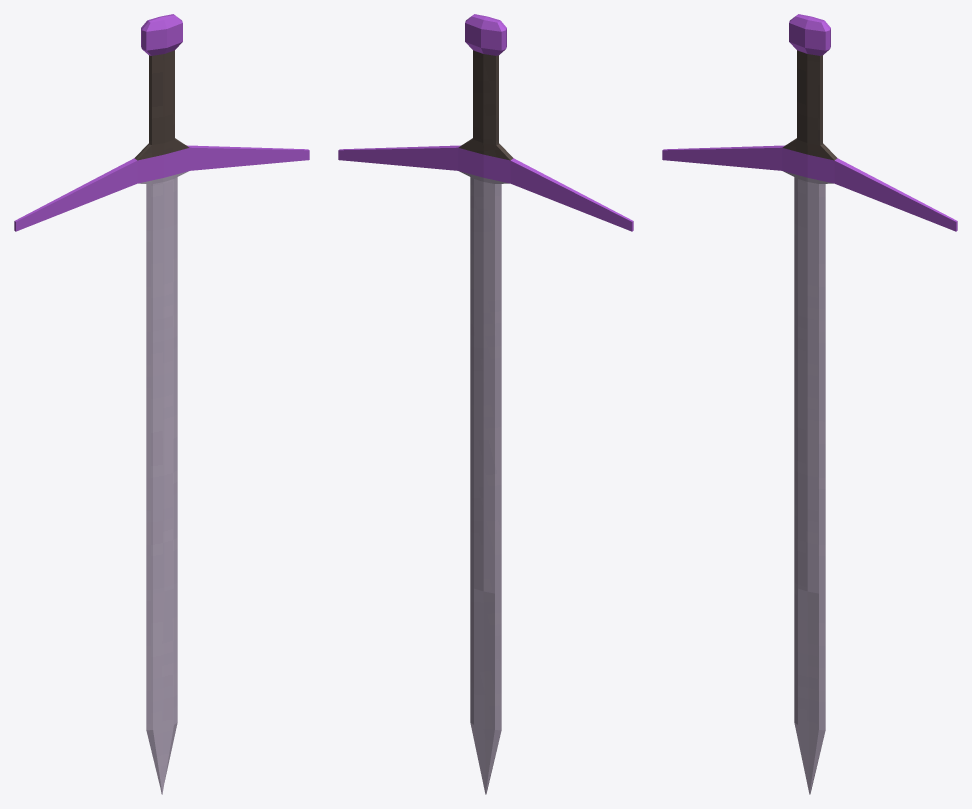
File: sword.obj
3 views of the same model, side by side, from view 1: azimuth 30°, elevation 25°; view 2: azimuth 150°, elevation 25°; view 3: azimuth 330°, elevation 25° (orthographic).
Visible parts, largest first — view 1: Cube_blade, Cube_trim, Cube_handle; view 2: Cube_blade, Cube_trim, Cube_handle; view 3: Cube_blade, Cube_trim, Cube_handle.
Boxes of the visible parts, x1=… form: Cube_blade: x1=138, y1=171, x2=188, y2=794; Cube_trim: x1=14, y1=14, x2=309, y2=231; Cube_handle: x1=134, y1=50, x2=189, y2=160; Cube_blade: x1=459, y1=171, x2=509, y2=794; Cube_trim: x1=338, y1=14, x2=633, y2=231; Cube_handle: x1=458, y1=50, x2=513, y2=160; Cube_blade: x1=783, y1=171, x2=833, y2=794; Cube_trim: x1=662, y1=14, x2=957, y2=231; Cube_handle: x1=782, y1=50, x2=837, y2=160.
Size of the model in its own units: 1.13 by 2.85 by 0.0663.
